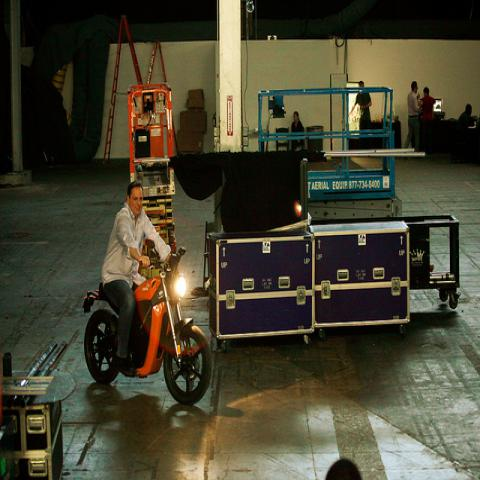motorcycle: (82, 247, 213, 406)
